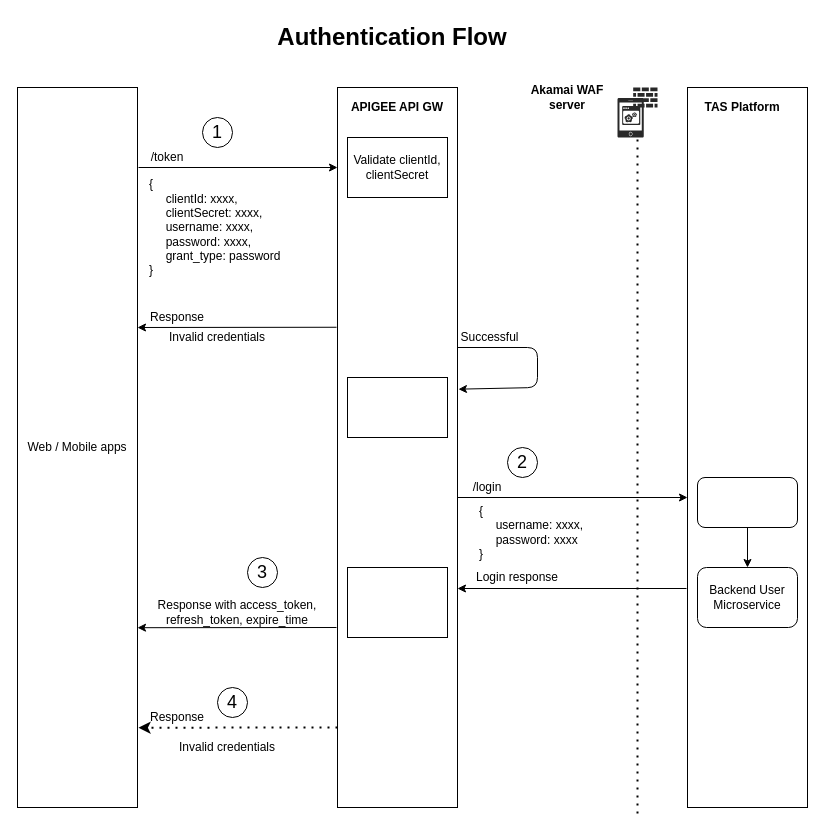
The diagram is 825 pixels wide and 832 high, and some of its shapes have lost their labels. The shapes that lost their labels are listed below. From the top down, each one's centre as x and y in pixels, then its label:
At (x=397, y=407): "Invoke backend service for user authentication".
At (x=747, y=502): "Spring Cloud Gateway".
At (x=397, y=602): "Upon successful authentication APIGEE generate the access token".
